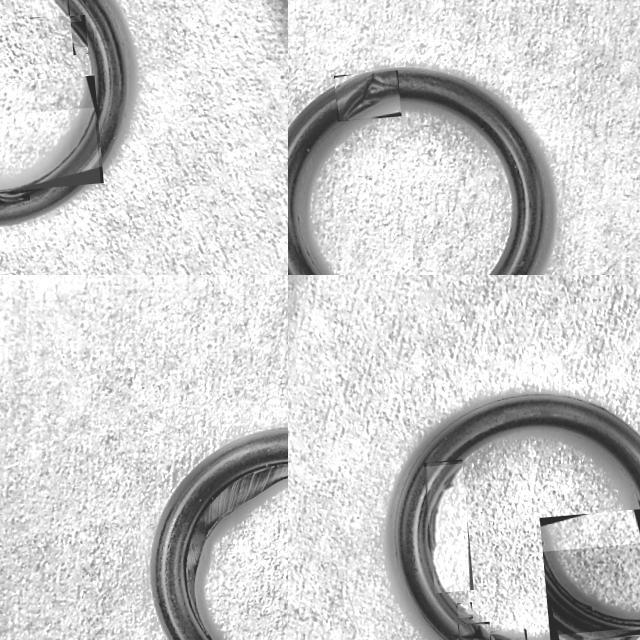切割缺陷: (338, 72, 397, 120), (458, 623, 489, 640), (0, 189, 28, 202)
裂纹: (0, 108, 94, 191), (542, 552, 640, 627), (429, 463, 462, 592), (70, 22, 87, 46), (52, 0, 67, 15), (457, 605, 473, 617), (542, 542, 544, 544)
